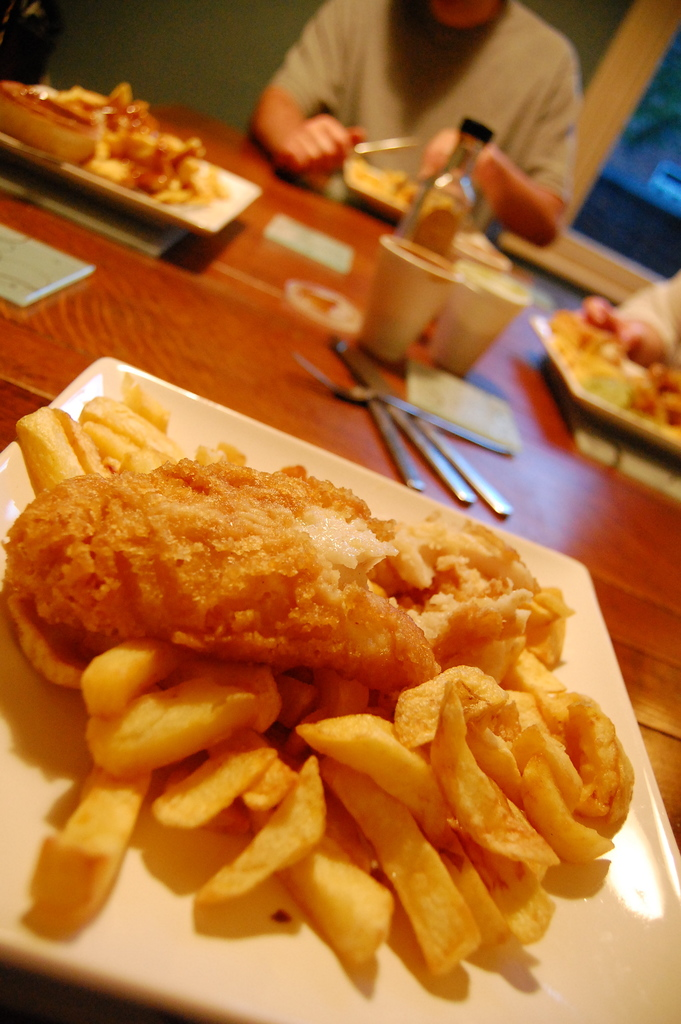French fries: (14, 346, 645, 975)
